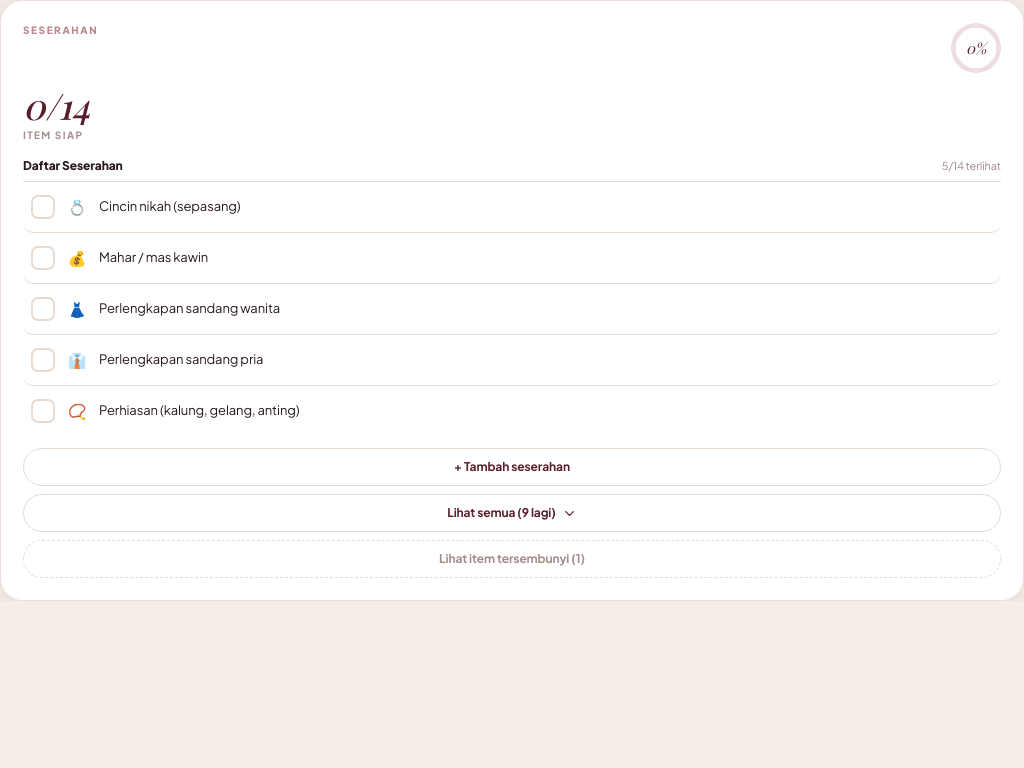
Scenario: SeserahanList hidden default items › allows a hidden default item to be restored
What coordinates should you click on to do the following:
click the button "Lihat item tersembunyi (1)"
I would click on:
 (512, 559)
Its box is x1=23 y1=540 x2=1001 y2=578.
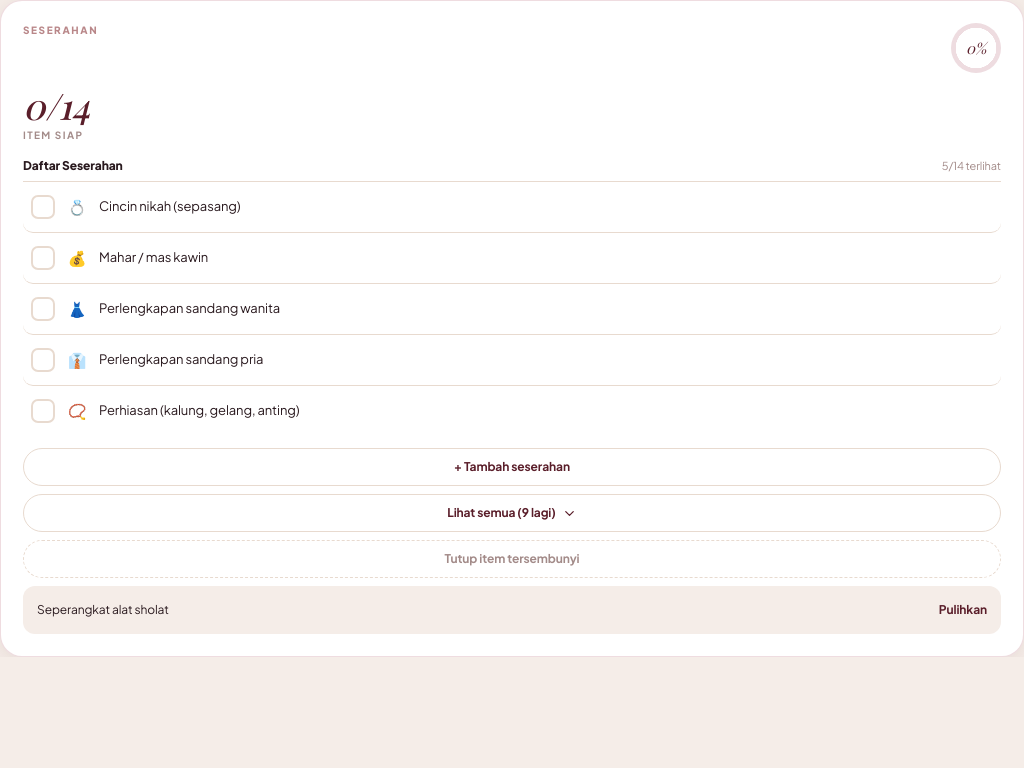
What coordinates should you click on to do the following:
click the button with aria-label "Pulihkan Seperangkat alat sholat"
I would click on:
 (963, 610)
Its box is x1=939 y1=602 x2=987 y2=618.
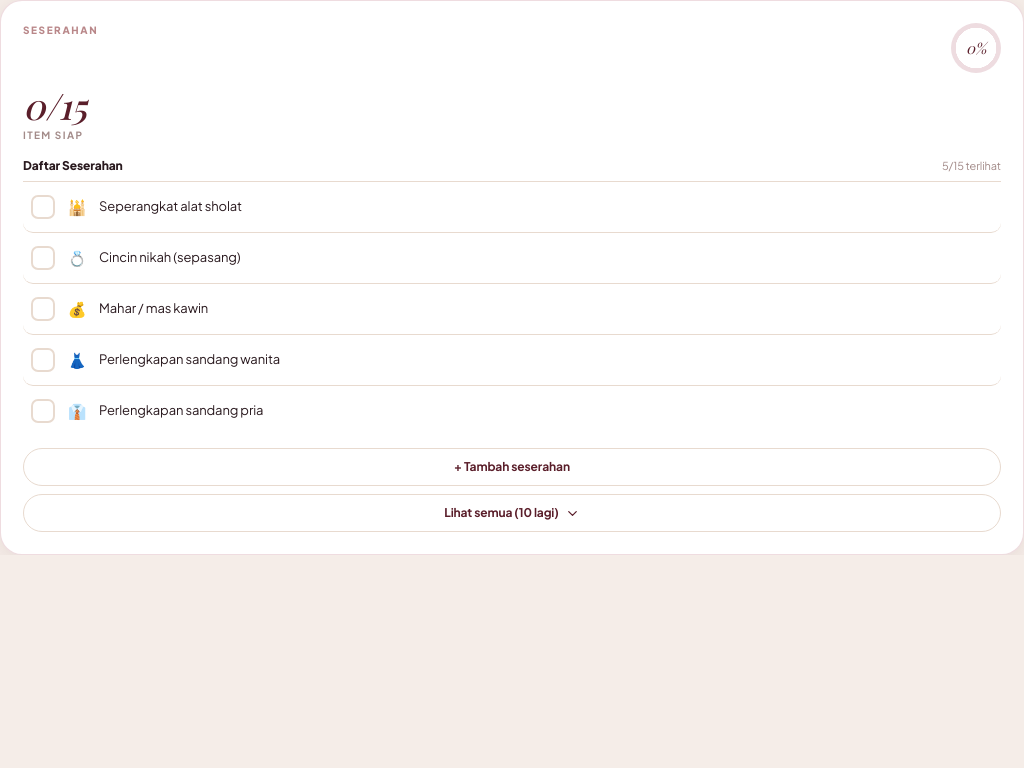
Expected: the text "Seperangkat alat sholat" is shown, x1=99 y1=198 x2=242 y2=214
